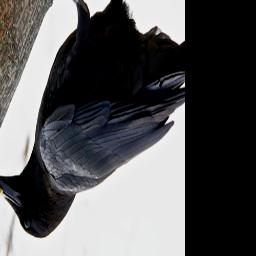Crow: (0, 0, 185, 239)
